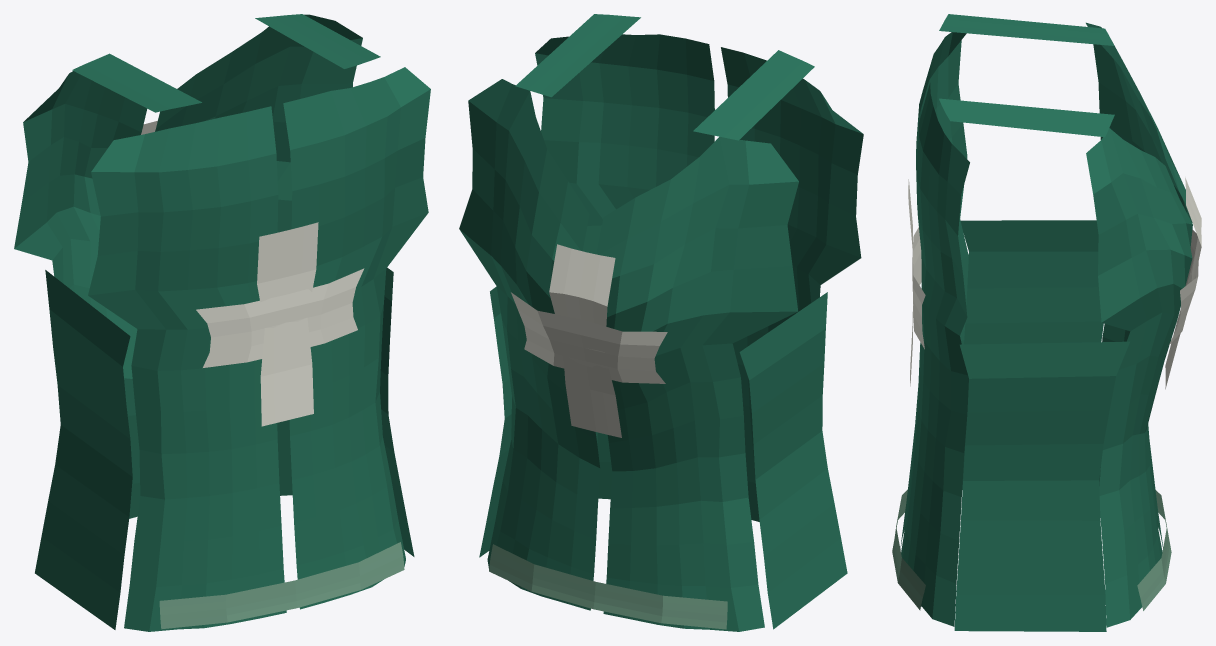
File: lwf_medic_female_overlay_v2.glb
3 renders of one model, left to right at view 1: azimuth 30°, elevation 25°; view 2: azimuth 150°, elevation 25°; view 3: azimuth 270°, elevation 25°, orthographic. The views are drawn at different scales.
Parts seen in each view (by area): view 1: LWF_Medic_Female_Overlay; view 2: LWF_Medic_Female_Overlay; view 3: LWF_Medic_Female_Overlay.
Boxes of the visible parts, <box> form: LWF_Medic_Female_Overlay: <box>14,14,430,631</box>; LWF_Medic_Female_Overlay: <box>459,14,863,631</box>; LWF_Medic_Female_Overlay: <box>892,14,1201,631</box>.
Bounding box in the file's own units: 0.3115 × 0.4378 × 0.2474.
1 material, 1 textured.
